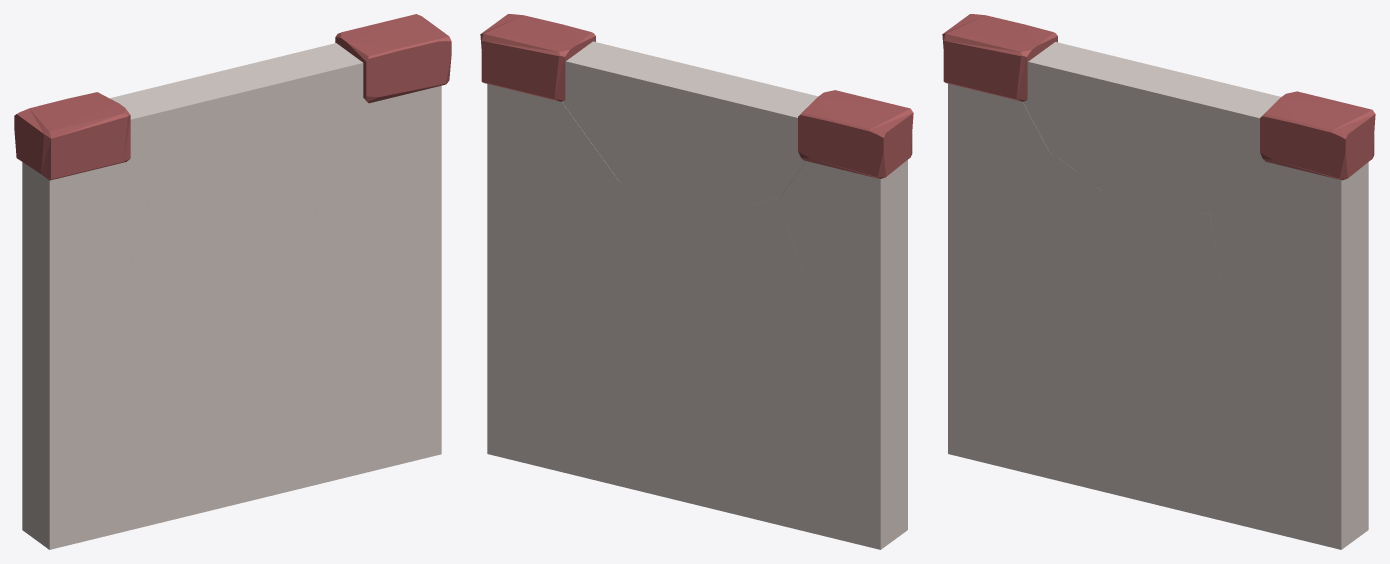
File: PKF_PK_Wall_Plain_v2.fbx
The picture shows the model from 3 angles, left to right: view 1: azimuth 30°, elevation 25°; view 2: azimuth 150°, elevation 25°; view 3: azimuth 330°, elevation 25°; orthographic projection.
Visible parts, largest first — view 1: PK_Wall_Plain_Chunk_11, PK_Wall_Plain_Chunk_09, PK_Wall_Plain_Chunk_10, PK_Wall_Plain_Chunk_03, PK_Wall_Plain_Chunk_02, PK_Wall_Plain_Chunk_00, PK_Wall_Plain_Chunk_01, PK_Wall_Plain_Chunk_04, PK_Wall_Plain_Chunk_08, PK_Wall_Plain_Chunk_06, PK_Wall_Plain_Chunk_07, PK_Wall_Plain_Chunk_05; view 2: PK_Wall_Plain_Chunk_11, PK_Wall_Plain_Chunk_09, PK_Wall_Plain_Chunk_10, PK_Wall_Plain_Chunk_03, PK_Wall_Plain_Chunk_02, PK_Wall_Plain_Chunk_00, PK_Wall_Plain_Chunk_01, PK_Wall_Plain_Chunk_04, PK_Wall_Plain_Chunk_08, PK_Wall_Plain_Chunk_06, PK_Wall_Plain_Chunk_07, PK_Wall_Plain_Chunk_05; view 3: PK_Wall_Plain_Chunk_09, PK_Wall_Plain_Chunk_11, PK_Wall_Plain_Chunk_10, PK_Wall_Plain_Chunk_01, PK_Wall_Plain_Chunk_02, PK_Wall_Plain_Chunk_00, PK_Wall_Plain_Chunk_03, PK_Wall_Plain_Chunk_04, PK_Wall_Plain_Chunk_08, PK_Wall_Plain_Chunk_06, PK_Wall_Plain_Chunk_07, PK_Wall_Plain_Chunk_05.
Part boxes in pixels (left/top/right/bottom): PK_Wall_Plain_Chunk_11: left=65, top=22, right=412, bottom=214; PK_Wall_Plain_Chunk_09: left=310, top=14, right=451, bottom=344; PK_Wall_Plain_Chunk_10: left=14, top=99, right=149, bottom=320; PK_Wall_Plain_Chunk_03: left=22, top=300, right=123, bottom=549; PK_Wall_Plain_Chunk_02: left=80, top=319, right=208, bottom=542; PK_Wall_Plain_Chunk_00: left=102, top=388, right=304, bottom=536; PK_Wall_Plain_Chunk_01: left=281, top=344, right=441, bottom=493; PK_Wall_Plain_Chunk_04: left=269, top=298, right=430, bottom=415; PK_Wall_Plain_Chunk_08: left=113, top=199, right=209, bottom=337; PK_Wall_Plain_Chunk_06: left=242, top=182, right=332, bottom=333; PK_Wall_Plain_Chunk_07: left=193, top=192, right=293, bottom=327; PK_Wall_Plain_Chunk_05: left=206, top=313, right=283, bottom=410; PK_Wall_Plain_Chunk_11: left=517, top=21, right=865, bottom=213; PK_Wall_Plain_Chunk_09: left=480, top=14, right=618, bottom=344; PK_Wall_Plain_Chunk_10: left=780, top=97, right=913, bottom=319; PK_Wall_Plain_Chunk_03: left=806, top=299, right=907, bottom=549; PK_Wall_Plain_Chunk_02: left=721, top=318, right=850, bottom=542; PK_Wall_Plain_Chunk_00: left=625, top=388, right=827, bottom=536; PK_Wall_Plain_Chunk_01: left=487, top=343, right=647, bottom=492; PK_Wall_Plain_Chunk_04: left=498, top=297, right=659, bottom=415; PK_Wall_Plain_Chunk_08: left=720, top=198, right=816, bottom=336; PK_Wall_Plain_Chunk_06: left=596, top=181, right=687, bottom=332; PK_Wall_Plain_Chunk_07: left=635, top=191, right=736, bottom=326; PK_Wall_Plain_Chunk_05: left=645, top=312, right=723, bottom=409; PK_Wall_Plain_Chunk_09: left=1209, top=101, right=1375, bottom=439; PK_Wall_Plain_Chunk_11: left=990, top=23, right=1338, bottom=214; PK_Wall_Plain_Chunk_10: left=942, top=14, right=1048, bottom=254; PK_Wall_Plain_Chunk_01: left=1180, top=420, right=1368, bottom=549; PK_Wall_Plain_Chunk_02: left=978, top=277, right=1107, bottom=466; PK_Wall_Plain_Chunk_00: left=1001, top=390, right=1203, bottom=510; PK_Wall_Plain_Chunk_03: left=948, top=223, right=1022, bottom=461; PK_Wall_Plain_Chunk_04: left=1169, top=340, right=1329, bottom=444; PK_Wall_Plain_Chunk_08: left=1012, top=151, right=1108, bottom=292; PK_Wall_Plain_Chunk_06: left=1141, top=213, right=1231, bottom=351; PK_Wall_Plain_Chunk_07: left=1092, top=196, right=1192, bottom=310; PK_Wall_Plain_Chunk_05: left=1105, top=308, right=1183, bottom=399.
Size of the model in its own units: 206 by 204 by 28.81.
